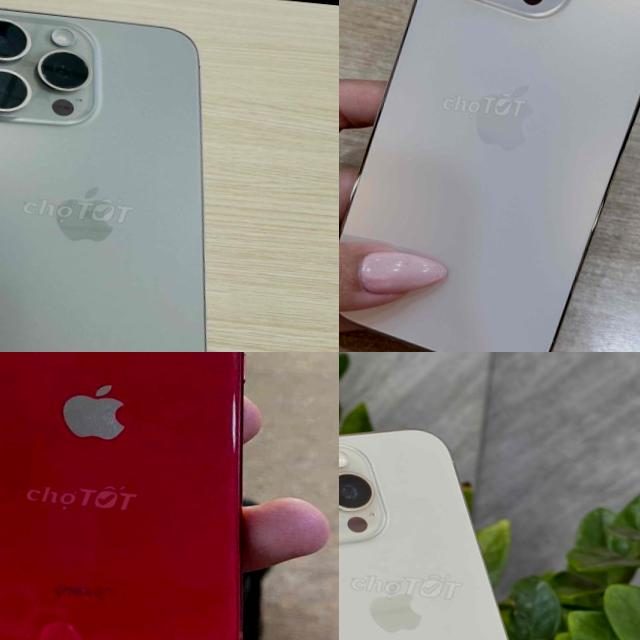scratch: (0, 11, 100, 122), (221, 389, 245, 456)
